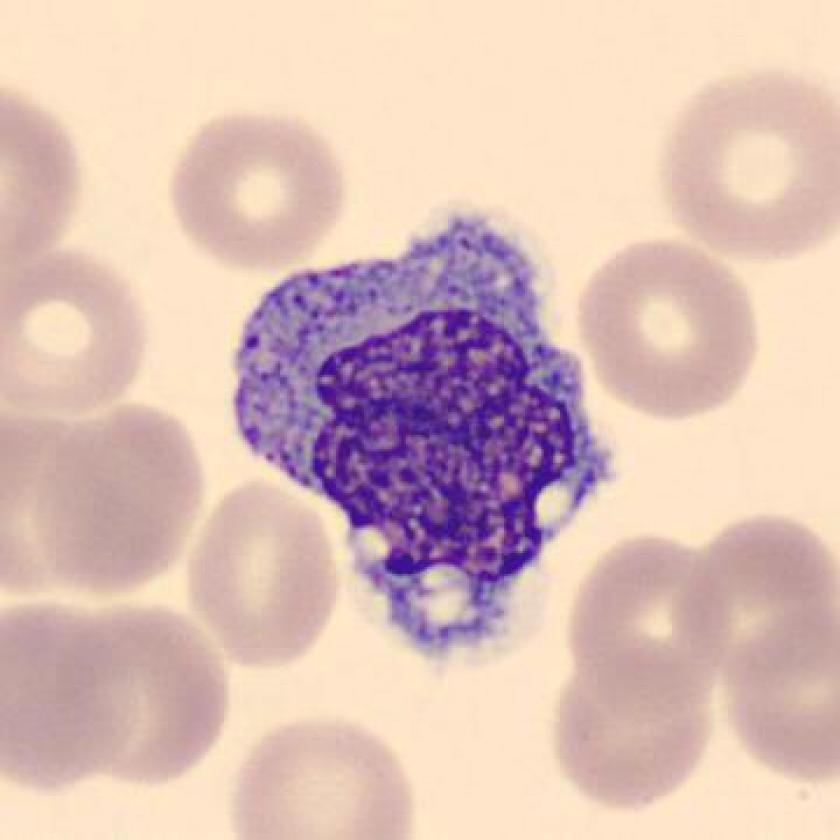monocyte: (211, 188, 643, 686)
